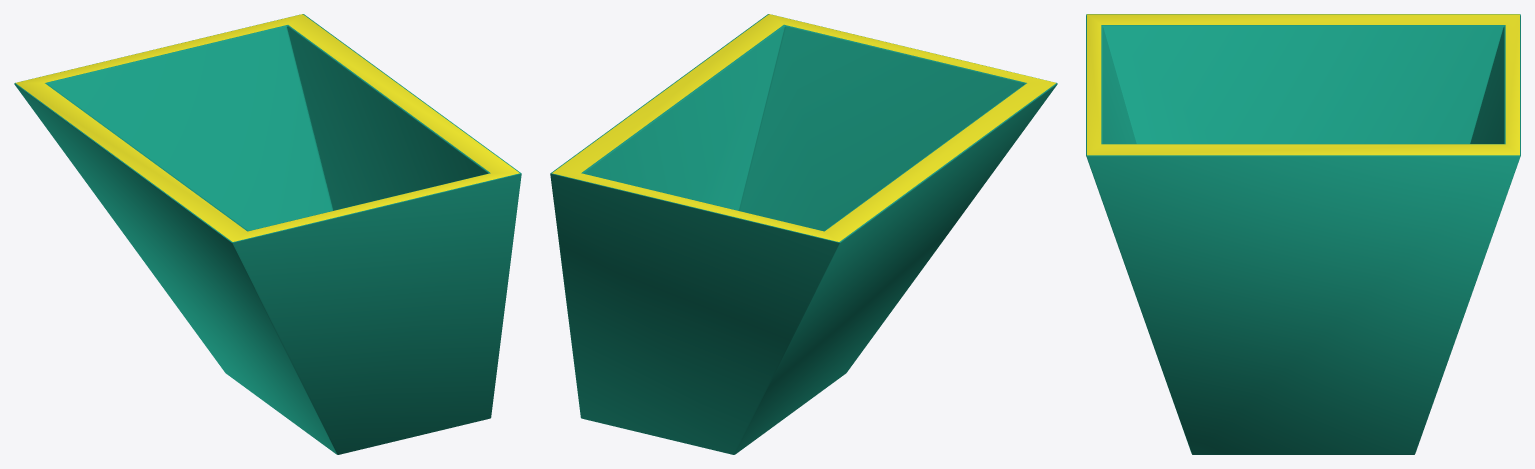
Rendered from SM_Dishes_12.fbx.
The picture shows the model from 3 angles, left to right: view 1: azimuth 30°, elevation 25°; view 2: azimuth 150°, elevation 25°; view 3: azimuth 270°, elevation 25°; orthographic projection.
Visible parts, largest first — view 1: SM_Dishes_12; view 2: SM_Dishes_12; view 3: SM_Dishes_12.
Boxes of the visible parts, x1,y1,x2,y2 form: SM_Dishes_12: (14, 14, 521, 454); SM_Dishes_12: (550, 14, 1057, 454); SM_Dishes_12: (1086, 14, 1520, 454).
Bounding box in the file's own units: 10.95 × 13.24 × 9.74.
Materials: 1 (1 with a texture image).
